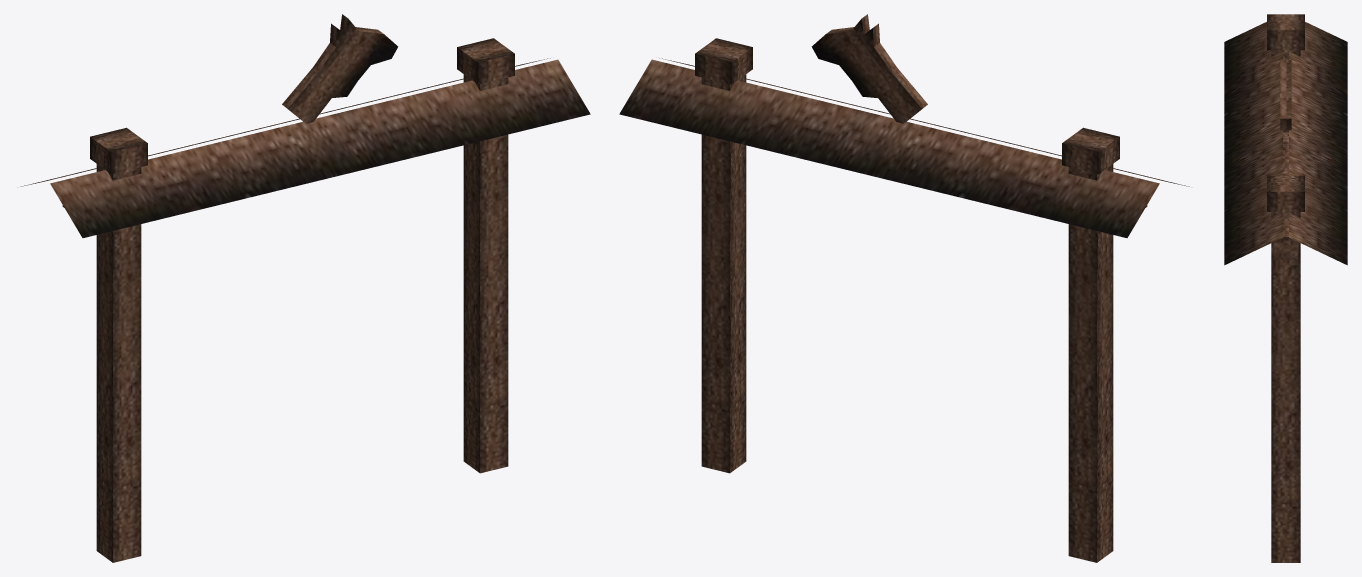
File: dvorec-gate.glb
3 renders of one model, left to right at view 1: azimuth 30°, elevation 25°; view 2: azimuth 150°, elevation 25°; view 3: azimuth 270°, elevation 25°, orthographic. The views are drawn at different scales.
Visible parts, largest first — view 1: dvorec-gate; view 2: dvorec-gate; view 3: dvorec-gate.
Part boxes in pixels (x1,y1,x2,y2): dvorec-gate: (20, 14, 590, 562); dvorec-gate: (619, 14, 1189, 562); dvorec-gate: (1224, 14, 1347, 562).
Size of the model in its own units: 3.6 by 3.26 by 0.84.
1 material, 1 textured.
